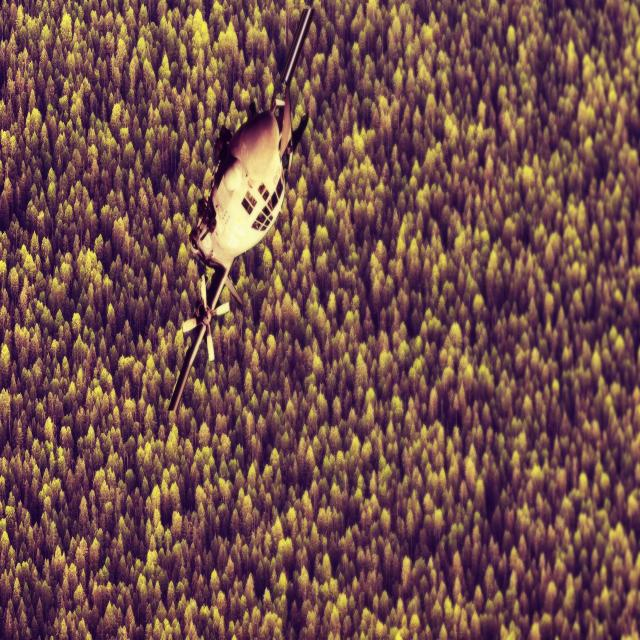airplane: (166, 4, 314, 413)
